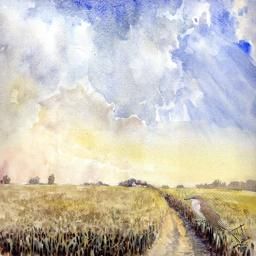Cuckoo: (183, 195, 241, 244)
